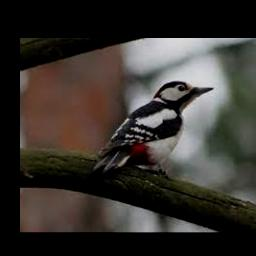Woodpecker: (93, 81, 215, 179)
